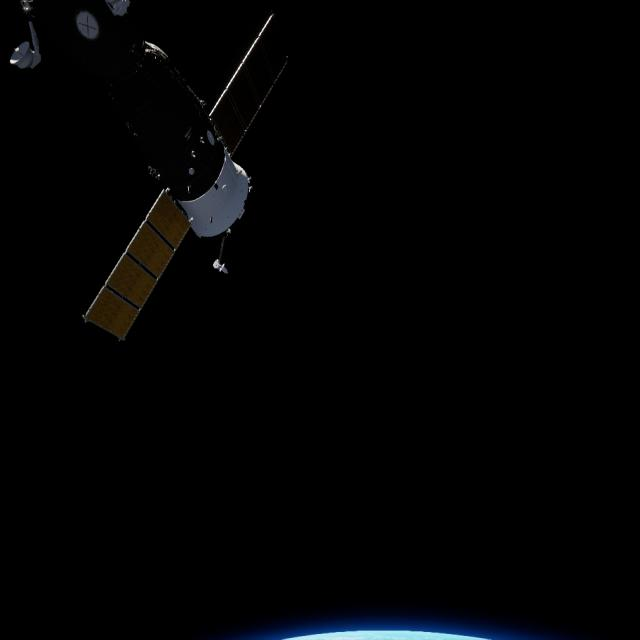Satellites revolving around earth: (9, 2, 290, 343)
